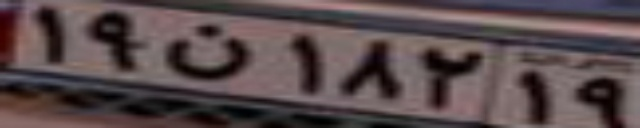1: (286, 33, 322, 95), (521, 69, 552, 124), (36, 6, 64, 62)
2: (420, 49, 485, 108)
7: (88, 10, 137, 72)
8: (339, 38, 402, 98)
9: (574, 75, 627, 126)
non: (164, 23, 254, 79)
